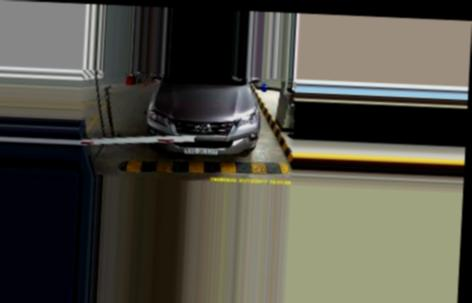License_Plate: (184, 146, 219, 159)
